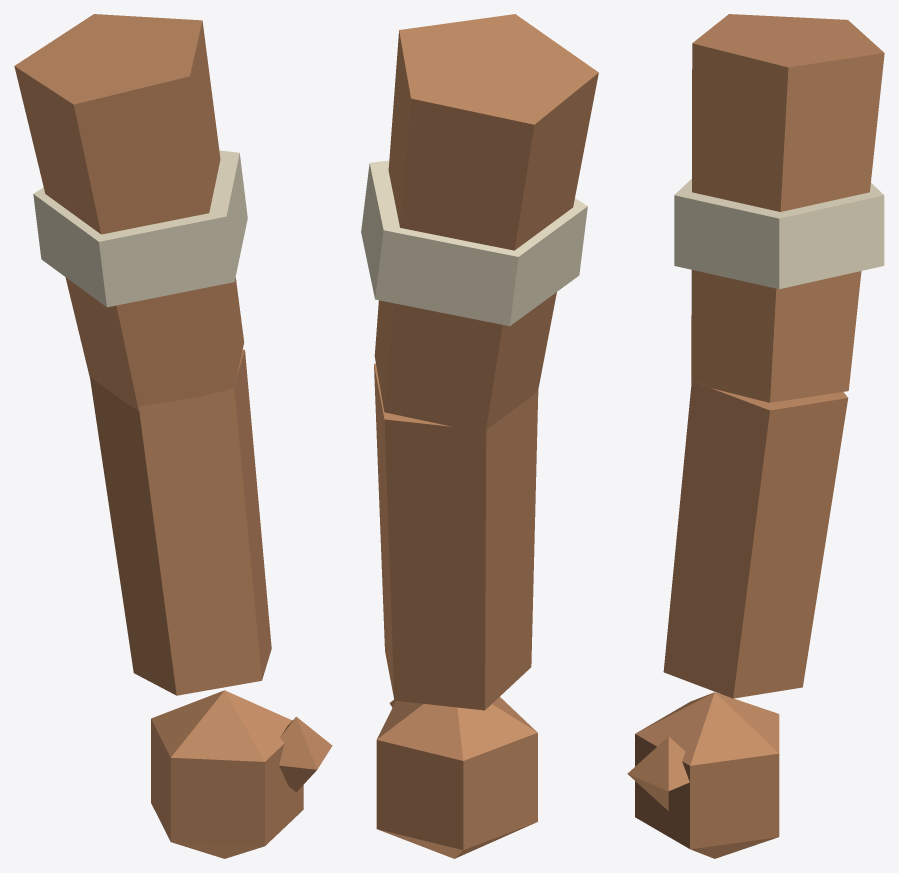
Rendered from part_arm_r.obj.
The picture shows the model from 3 angles, left to right: view 1: azimuth 30°, elevation 25°; view 2: azimuth 150°, elevation 25°; view 3: azimuth 270°, elevation 25°; orthographic projection. The views are drawn at different scales.
Parts seen in each view (by area): view 1: CavemanArmR; view 2: CavemanArmR; view 3: CavemanArmR.
Part boxes in pixels (x1,y1,x2,y2): CavemanArmR: (14, 14, 332, 858); CavemanArmR: (361, 14, 598, 858); CavemanArmR: (627, 14, 884, 858).
Bounding box in the file's own units: 0.2834 × 0.9572 × 0.2795.
